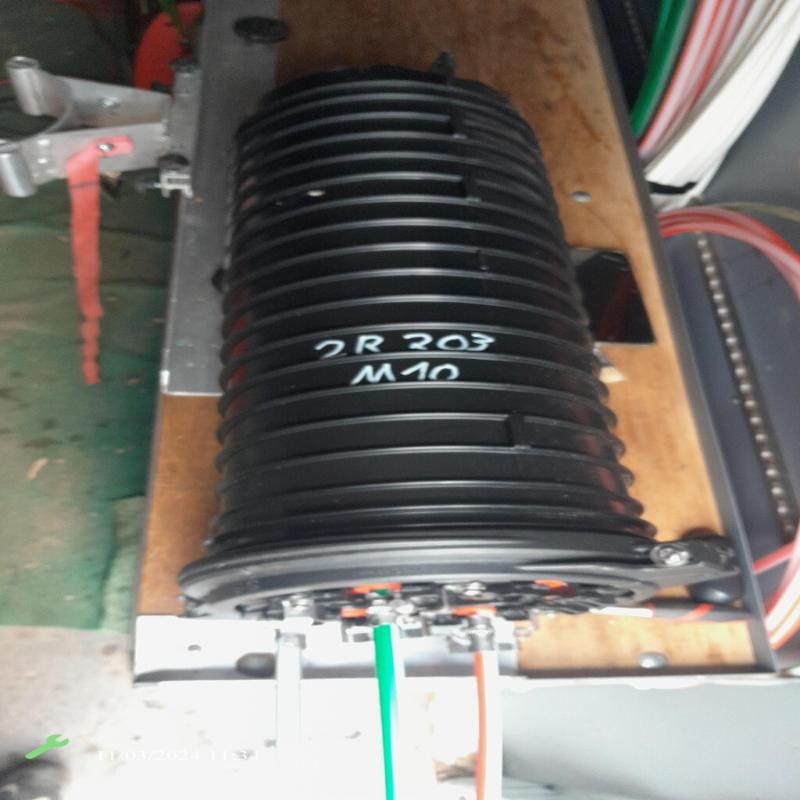NT-Muffen: (191, 65, 671, 665)
